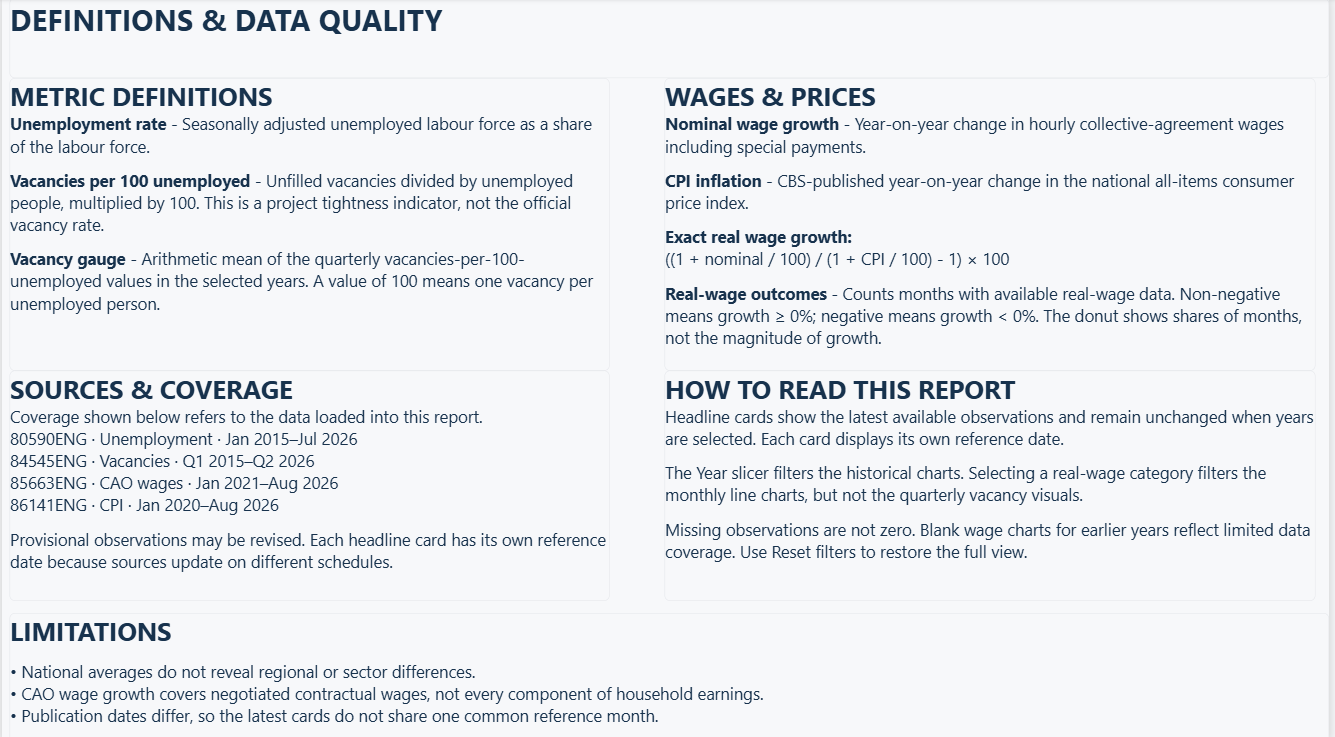

The dashboard page shown, as its layout file describes it:
{"tool":"powerbi","page":{"name":"Definitions & data quality","canvas":[1920,1080],"ordinal":1},"visuals":[{"type":"textbox","box":[10.3,115.3,868.6,424],"z":0},{"type":"textbox","box":[959.2,115.3,942.7,424],"z":1000},{"type":"textbox","box":[10.3,539.3,868.6,333.4],"z":2000},{"type":"textbox","box":[10.3,891.3,1910.1,189.4],"z":3000},{"type":"textbox","box":[10,0,1910,116],"z":3001},{"type":"textbox","box":[959.2,539.3,942.7,333.4],"z":3002}]}

Visuals, with their boxes in screenshot pixels (x1, y1, x2, y2), scaled from the page's 1920x1080 canvas onto the 1335x737 screenshot:
textbox: [x1=7, y1=79, x2=611, y2=368]
textbox: [x1=667, y1=79, x2=1322, y2=368]
textbox: [x1=7, y1=368, x2=611, y2=596]
textbox: [x1=7, y1=608, x2=1334, y2=736]
textbox: [x1=7, y1=0, x2=1334, y2=79]
textbox: [x1=667, y1=368, x2=1322, y2=596]
